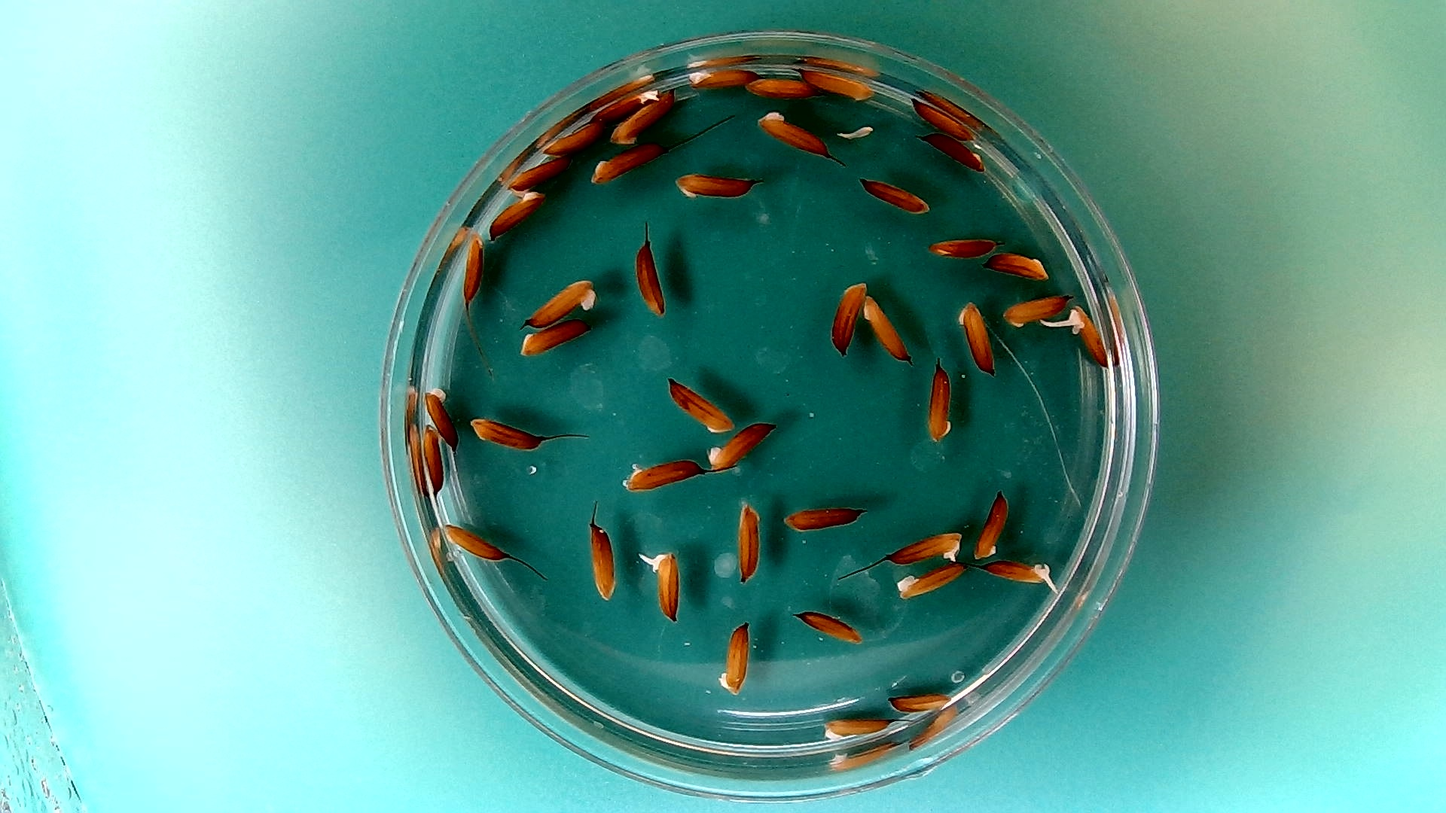no: (664, 372, 736, 436), (520, 273, 599, 328), (608, 85, 675, 146), (753, 108, 833, 158), (704, 417, 777, 471), (859, 291, 911, 364), (618, 452, 704, 494), (587, 139, 665, 185), (583, 516, 621, 605), (908, 93, 977, 142), (827, 277, 868, 358), (713, 617, 754, 698), (954, 298, 997, 375), (892, 559, 969, 601), (486, 185, 547, 238), (517, 316, 592, 359), (467, 412, 546, 452), (631, 236, 668, 320), (790, 604, 865, 645), (971, 486, 1011, 562), (798, 64, 875, 103), (440, 519, 508, 563), (670, 169, 758, 203), (920, 130, 987, 174), (858, 175, 931, 215), (539, 114, 606, 157), (731, 495, 763, 585), (780, 499, 867, 532), (923, 358, 953, 445), (504, 152, 573, 189), (459, 225, 490, 306), (1002, 291, 1067, 329), (421, 383, 457, 448), (820, 711, 892, 743), (984, 249, 1052, 282), (922, 233, 1001, 261), (419, 420, 448, 496), (886, 688, 955, 718), (746, 72, 818, 99), (688, 62, 755, 91)
yes: (636, 545, 685, 625), (882, 526, 966, 567), (592, 84, 663, 131), (1066, 303, 1109, 373), (981, 556, 1055, 589)
